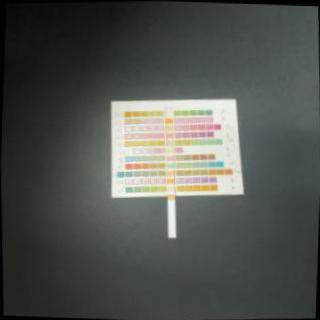mark: (167, 176, 174, 184), (168, 186, 175, 192), (167, 170, 174, 176), (165, 147, 172, 153), (165, 109, 172, 115), (168, 194, 174, 200), (168, 155, 174, 161), (167, 163, 174, 168), (166, 133, 173, 138), (165, 140, 172, 144), (165, 125, 172, 129), (165, 118, 172, 122)
